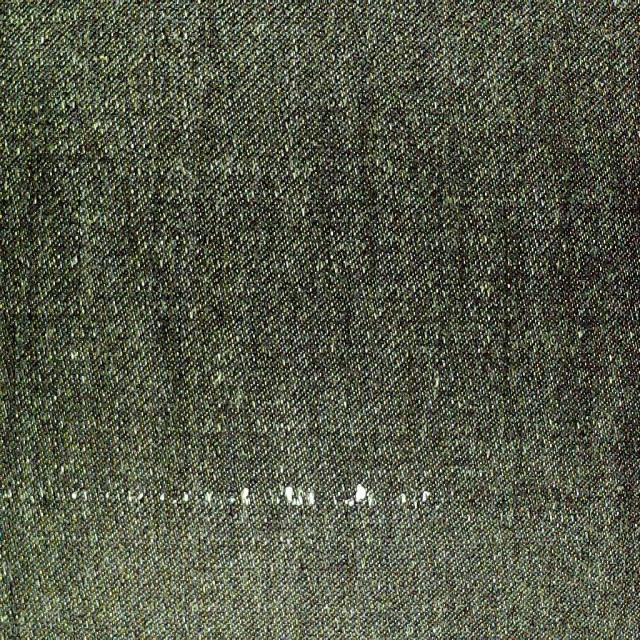pulled_or_thick_thread: (153, 485, 449, 512)
